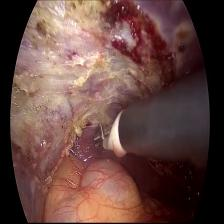Hook: (90, 106, 126, 166)
